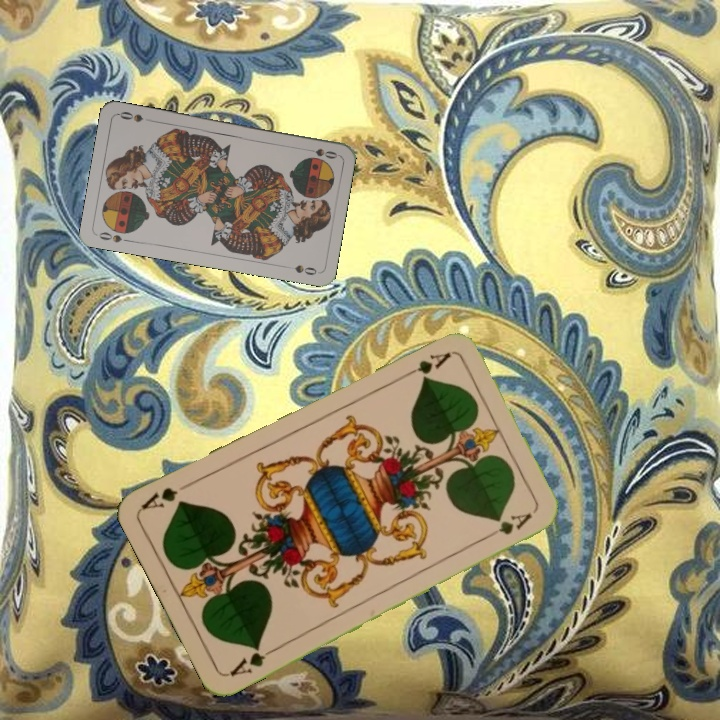GA: (225, 641, 279, 679), (398, 348, 454, 381)
SO: (300, 144, 340, 161), (95, 228, 134, 245)
